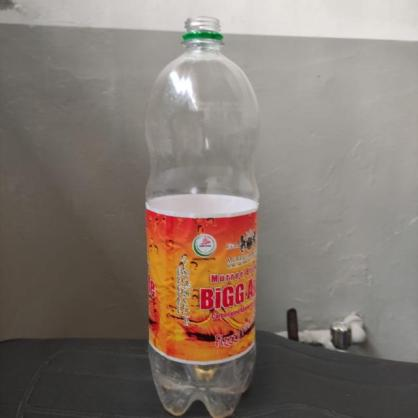bottle: (140, 17, 270, 418)
label: (146, 199, 266, 367)
